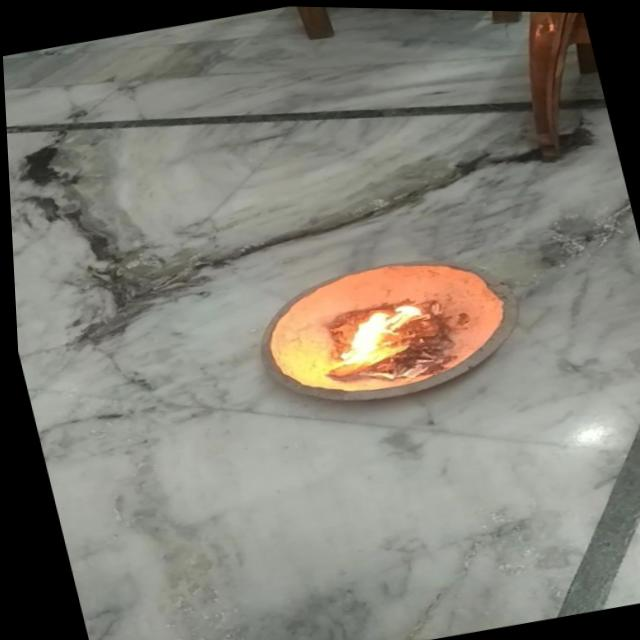fire: (315, 293, 441, 377)
